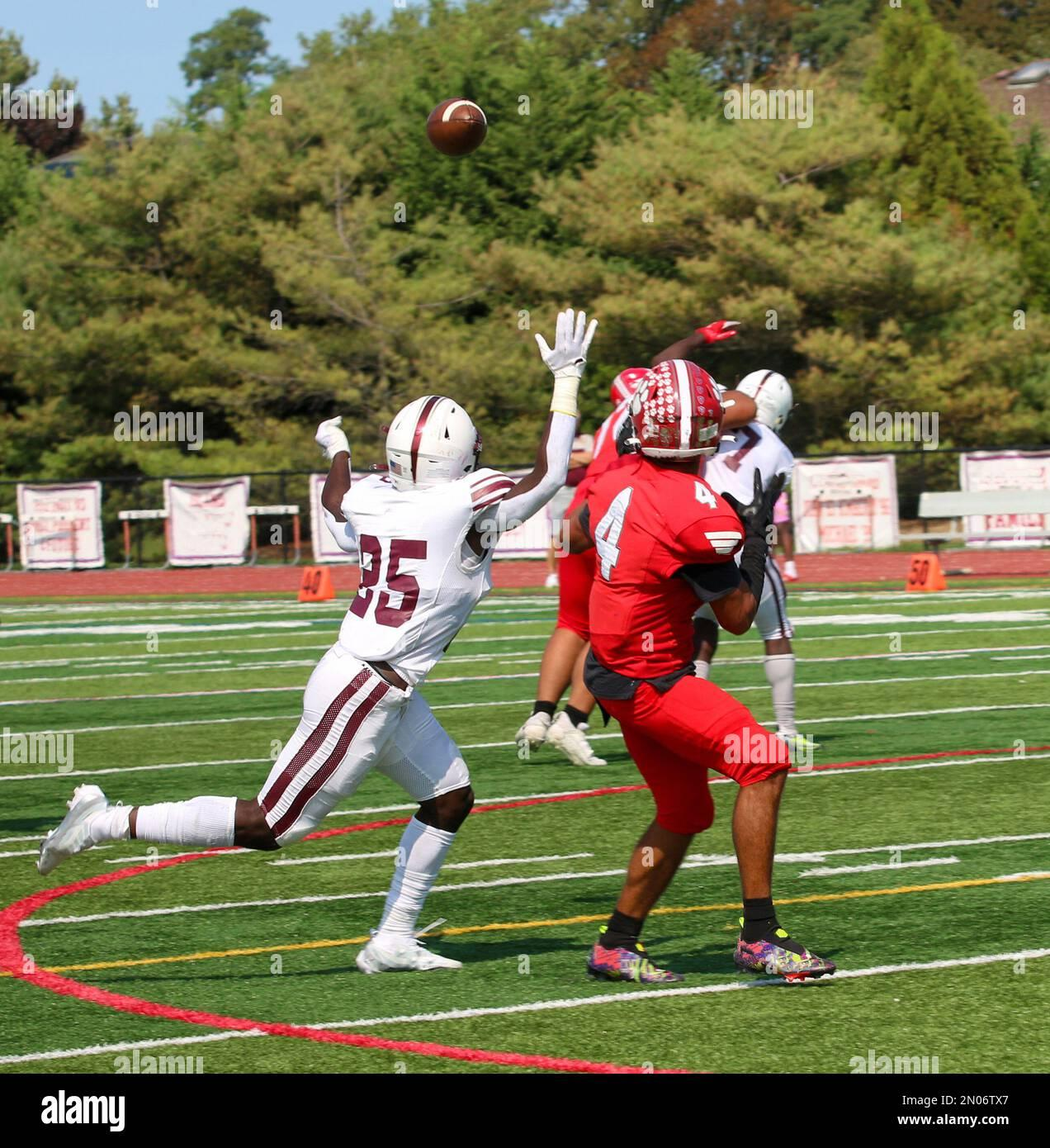americanFootball: (433, 86, 489, 147)
